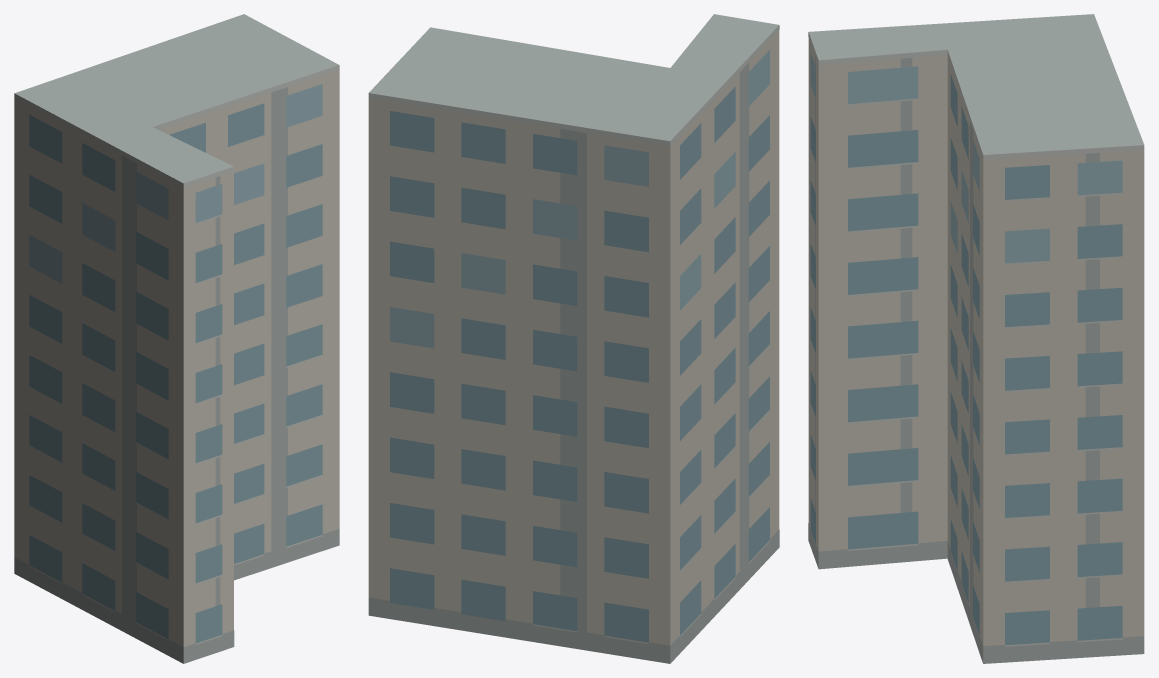
The model's file is survey-upis-32820314.glb.
The picture shows the model from 3 angles, left to right: view 1: azimuth 30°, elevation 25°; view 2: azimuth 150°, elevation 25°; view 3: azimuth 270°, elevation 25°; orthographic projection. The views are drawn at different scales.
Visible parts, largest first — view 1: survey-upis-32820314.tmp; view 2: survey-upis-32820314.tmp; view 3: survey-upis-32820314.tmp.
Boxes of the visible parts, left/top/right/bottom form: survey-upis-32820314.tmp: left=14, top=14, right=339, bottom=663; survey-upis-32820314.tmp: left=368, top=14, right=779, bottom=663; survey-upis-32820314.tmp: left=808, top=14, right=1144, bottom=663.
Size of the model in its own units: 14.51 by 24.4 by 14.61.
